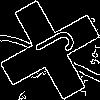J: (25, 25, 77, 70)
